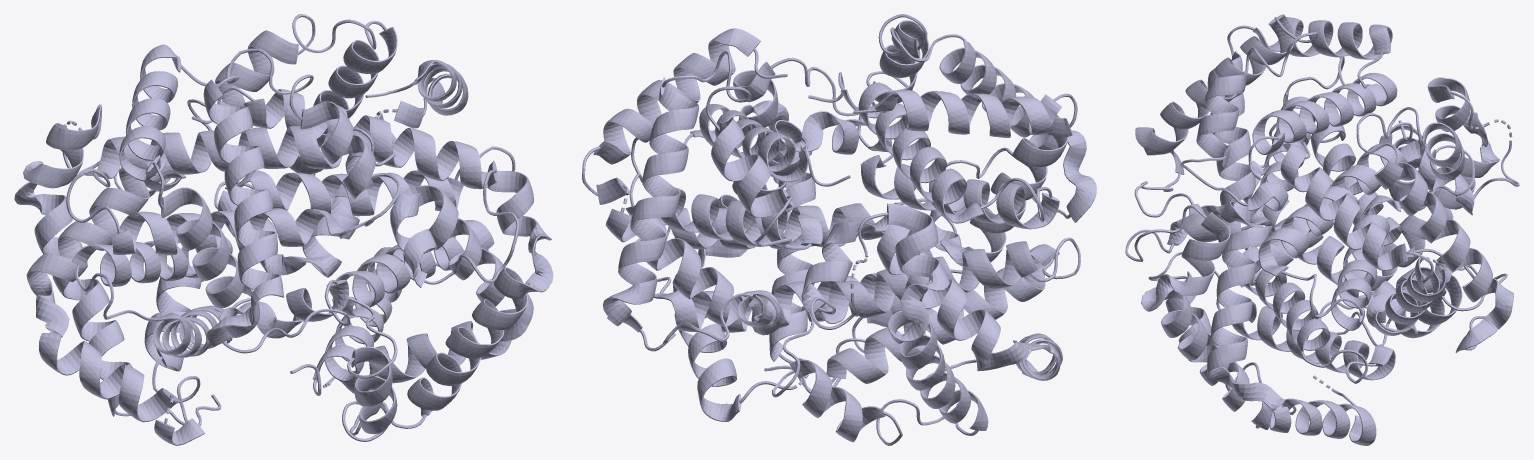
The model's file is 4hhb__cartoon__b-factor.glb.
3 views of the same model, side by side, from view 1: azimuth 30°, elevation 25°; view 2: azimuth 150°, elevation 25°; view 3: azimuth 270°, elevation 25° (orthographic). The views are drawn at different scales.
Parts seen in each view (by area): view 1: Renderer Node; view 2: Renderer Node; view 3: Renderer Node.
Boxes of the visible parts, bbox=[...] form: Renderer Node: bbox=[14, 14, 553, 445]; Renderer Node: bbox=[582, 14, 1096, 445]; Renderer Node: bbox=[1125, 14, 1519, 445].
Size of the model in its own units: 63.54 by 54.13 by 54.86.
